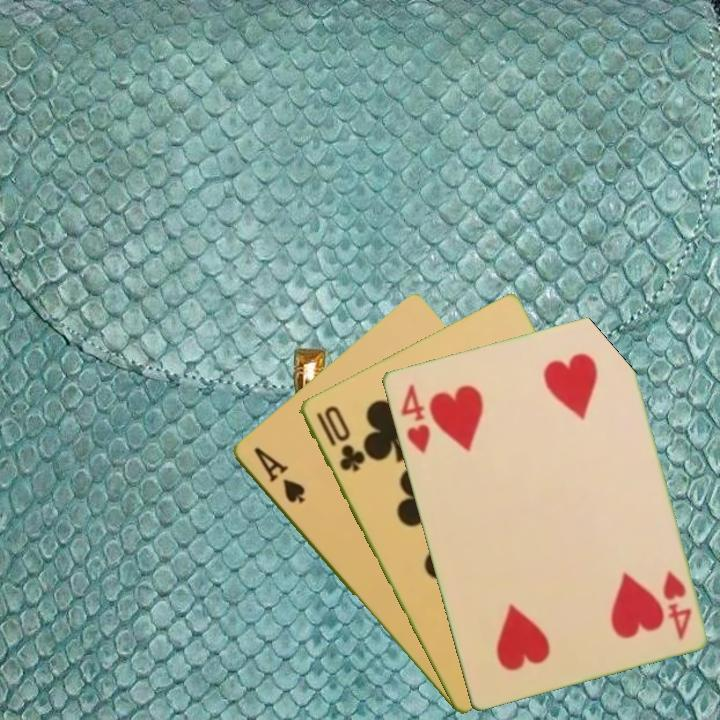10c: (312, 401, 367, 474)
4h: (658, 566, 694, 643), (397, 380, 433, 456)
As: (249, 443, 308, 506)
